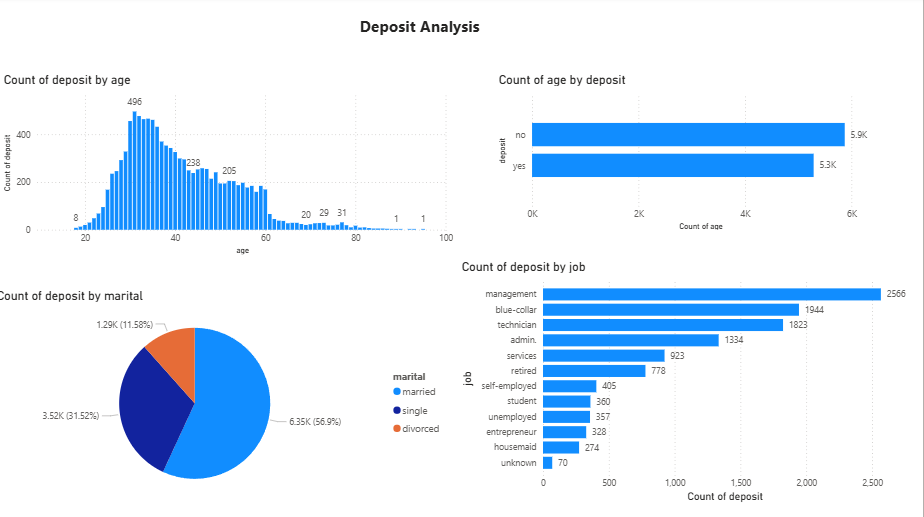

The page's visual inventory and layout, read from the dashboard file:
{"tool":"powerbi","page":{"name":"Deposit Analysis","canvas":[1280,720],"ordinal":2},"visuals":[{"type":"clusteredColumnChart","fields":{"Category":["dataset for intern.age"],"Y":["CountNonNull(dataset for intern.deposit)"]},"box":[10.2,103.9,629.3,256.1],"z":0},{"type":"pieChart","fields":{"Category":["dataset for intern.marital"],"Y":["CountNonNull(dataset for intern.deposit)"]},"box":[0,401,629.3,298.5],"z":1000},{"type":"clusteredBarChart","fields":{"Category":["dataset for intern.job"],"Y":["CountNonNull(dataset for intern.deposit)"]},"box":[639.5,360,630.7,339.5],"z":2000},{"type":"clusteredBarChart","fields":{"Y":["CountNonNull(dataset for intern.age)"],"Category":["dataset for intern.deposit"]},"box":[690.7,103.9,528.3,222.4],"z":6000},{"type":"textbox","box":[499,20.5,221,62.9],"z":6001}]}

Visuals, with their boxes in screenshot pixels (x1, y1, x2, y2), scaled from the page's 1280x720 canvas onto the 924x517 screenshot:
clusteredColumnChart - dataset for intern.age x CountNonNull(dataset for intern.deposit): 7, 75, 462, 258
pieChart - dataset for intern.marital x CountNonNull(dataset for intern.deposit): 0, 288, 454, 502
clusteredBarChart - dataset for intern.job x CountNonNull(dataset for intern.deposit): 462, 258, 917, 502
clusteredBarChart - CountNonNull(dataset for intern.age) x dataset for intern.deposit: 499, 75, 880, 234
textbox: 360, 15, 520, 60
